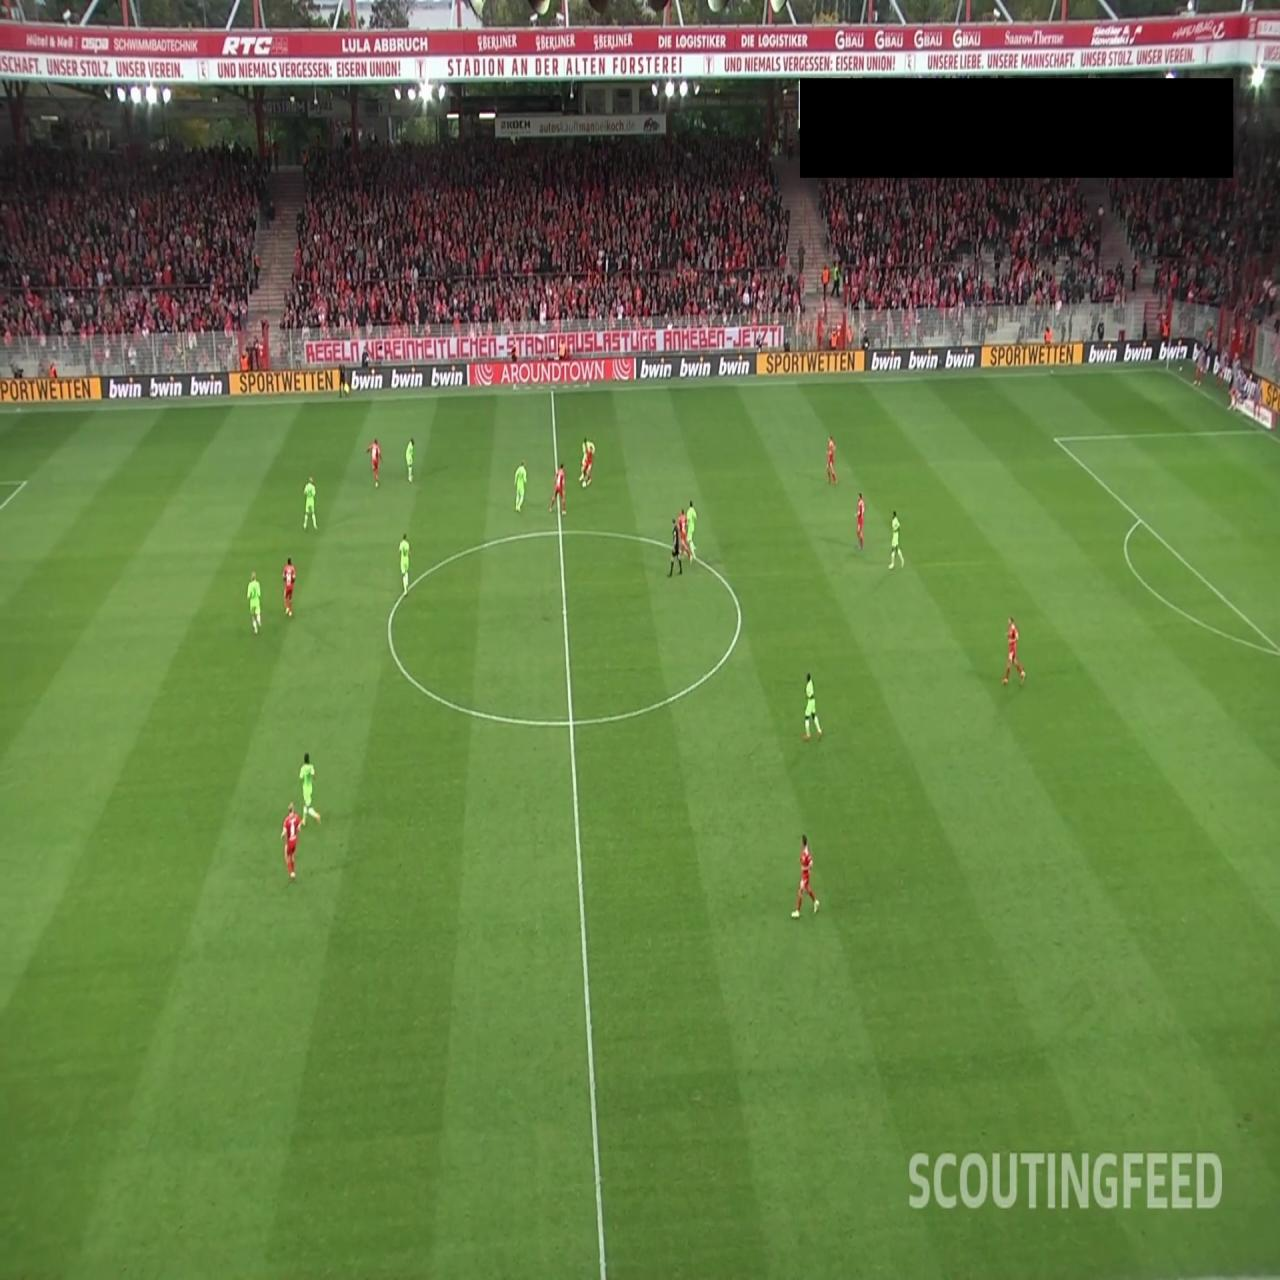ball: (582, 480, 587, 490)
player: (791, 834, 820, 918), (281, 800, 304, 882), (1001, 615, 1026, 686), (298, 751, 320, 826), (803, 671, 823, 741), (247, 569, 262, 634), (549, 462, 567, 514), (303, 474, 319, 532), (889, 508, 904, 569), (677, 508, 693, 564), (282, 556, 296, 617), (365, 438, 382, 488), (514, 457, 527, 512), (578, 438, 594, 482), (399, 531, 410, 594), (686, 500, 697, 561), (855, 492, 865, 551), (826, 436, 838, 485), (583, 442, 595, 487), (405, 438, 415, 482)
referee: (668, 518, 682, 578), (340, 363, 350, 398)
